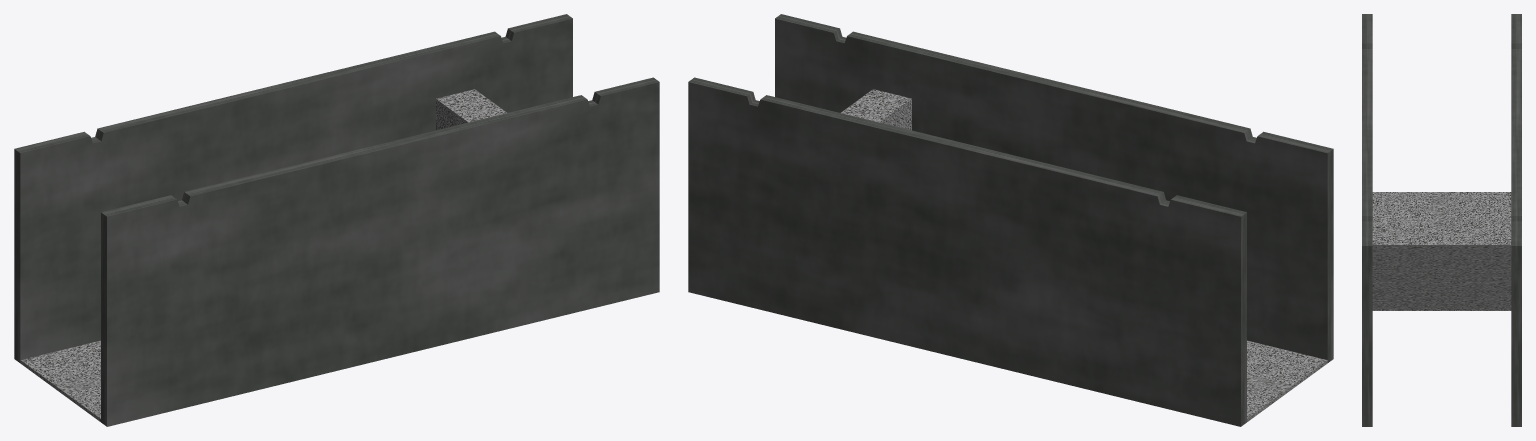
Rendered from Basement_Down_Stairs.fbx.
3 views of the same model, side by side, from view 1: azimuth 30°, elevation 25°; view 2: azimuth 150°, elevation 25°; view 3: azimuth 270°, elevation 25° (orthographic). The views are drawn at different scales.
Parts seen in each view (by area): view 1: Basement Wall, Basement Wall.001, Basement floor, Basement stairs; view 2: Basement Wall.001, Basement Wall, Basement floor, Basement stairs; view 3: Basement stairs, Basement floor, Basement Wall.001, Basement Wall.
Part boxes in pixels (box(x1,y1,x2,y2)): Basement Wall: box(101, 77, 659, 426); Basement Wall.001: box(14, 14, 572, 362); Basement floor: box(20, 340, 100, 421); Basement stairs: box(436, 89, 506, 130); Basement Wall.001: box(688, 77, 1246, 426); Basement Wall: box(775, 14, 1333, 362); Basement floor: box(1247, 340, 1327, 421); Basement stairs: box(841, 89, 911, 130); Basement stairs: box(1372, 228, 1511, 309); Basement floor: box(1372, 192, 1511, 310); Basement Wall.001: box(1511, 14, 1521, 426); Basement Wall: box(1362, 14, 1372, 426).
Bounding box in the file's own units: 476 × 173 × 139.
3 materials, 3 textured.
